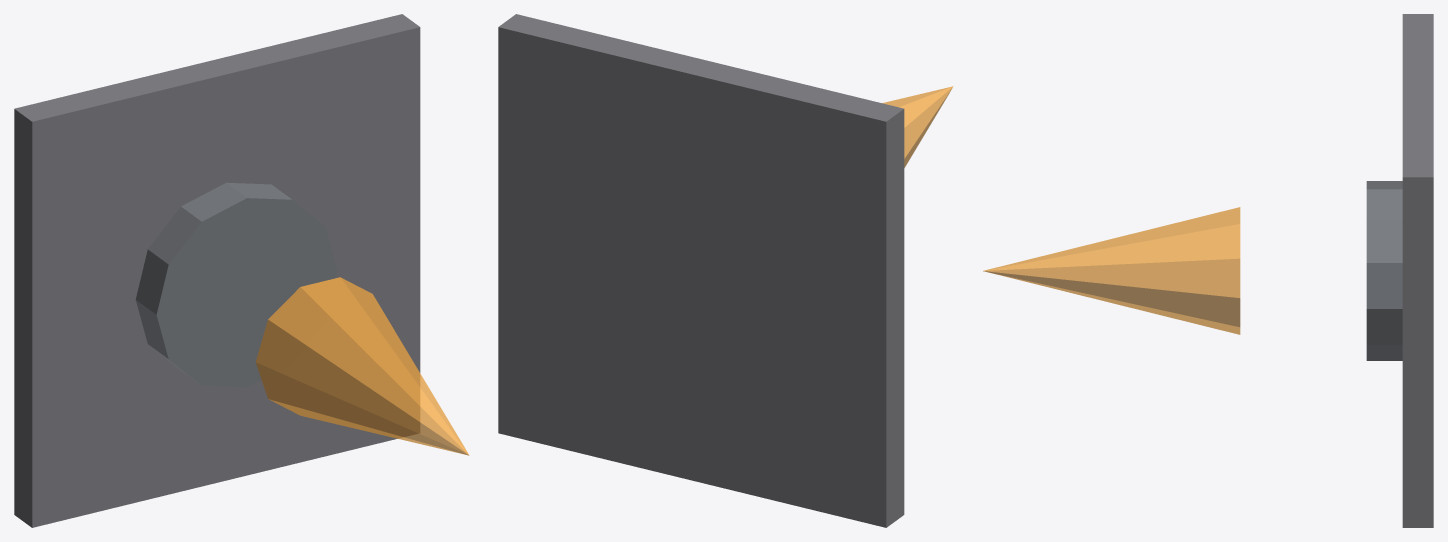
Rendered from 04_fire_jet_trap.glb.
3 views of the same model, side by side, from view 1: azimuth 30°, elevation 25°; view 2: azimuth 150°, elevation 25°; view 3: azimuth 270°, elevation 25° (orthographic). The views are drawn at different scales.
Parts seen in each view (by area): view 1: trap_base, vent, flame; view 2: trap_base, flame; view 3: flame, trap_base, vent.
Part boxes in pixels (x1,y1,x2,y2): trap_base: [14, 14, 420, 527]; vent: [135, 182, 337, 387]; flame: [255, 277, 469, 455]; trap_base: [498, 14, 904, 527]; flame: [882, 86, 953, 167]; flame: [983, 207, 1240, 334]; trap_base: [1402, 14, 1433, 527]; vent: [1366, 181, 1402, 360].
Bounding box in the file's own units: 1.5 × 1.5 × 1.75.
